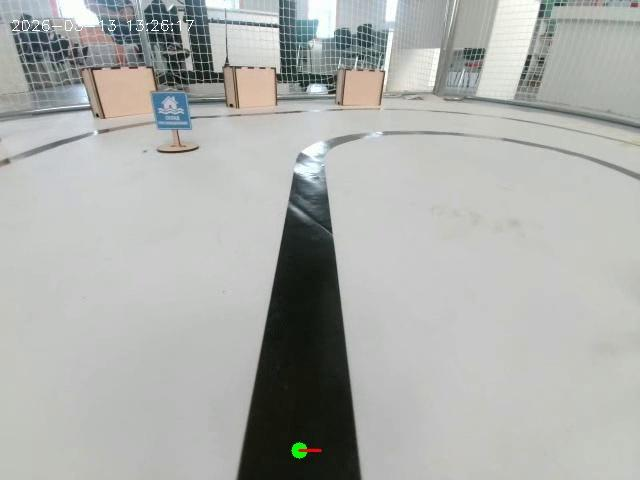flood: (142, 80, 210, 161)
